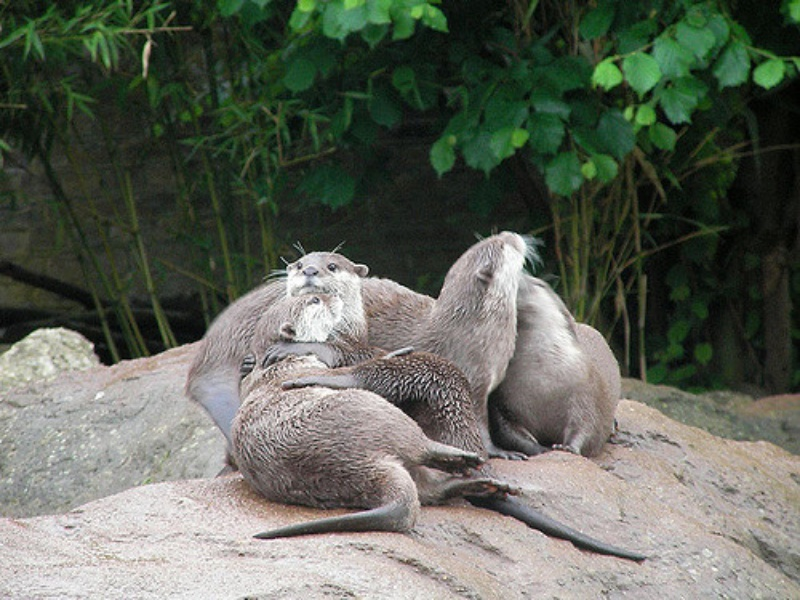minkish: (233, 324, 510, 542), (379, 221, 536, 448), (484, 270, 627, 466), (248, 244, 376, 382)
